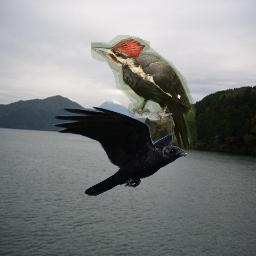Crow: (52, 105, 190, 196)
Woodpecker: (91, 35, 200, 153)
